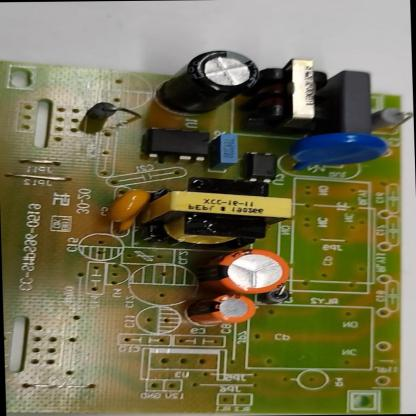Cap1: (204, 250, 288, 293)
Cap2: (189, 295, 257, 326)
Cap3: (159, 49, 259, 114)
MOSFET: (143, 128, 210, 162)
Mov: (292, 133, 388, 169)
Resistor: (372, 108, 412, 130)
Transformer: (141, 179, 292, 247), (256, 59, 330, 127)
